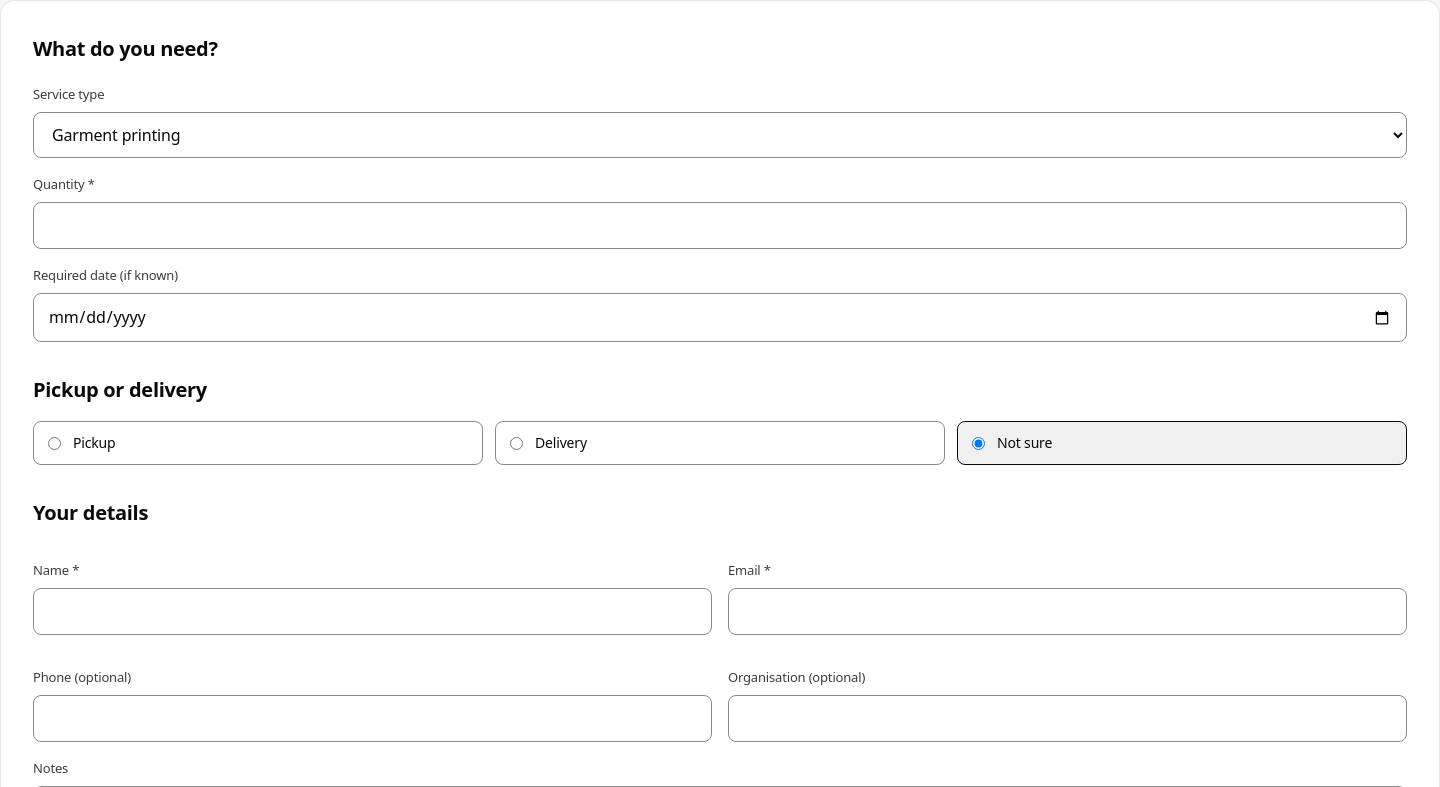
QuoteFormClient › requires delivery suburb when Delivery is selected
Click the radio button labelled "Delivery".
click(516, 443)  # box [510, 436, 523, 450]
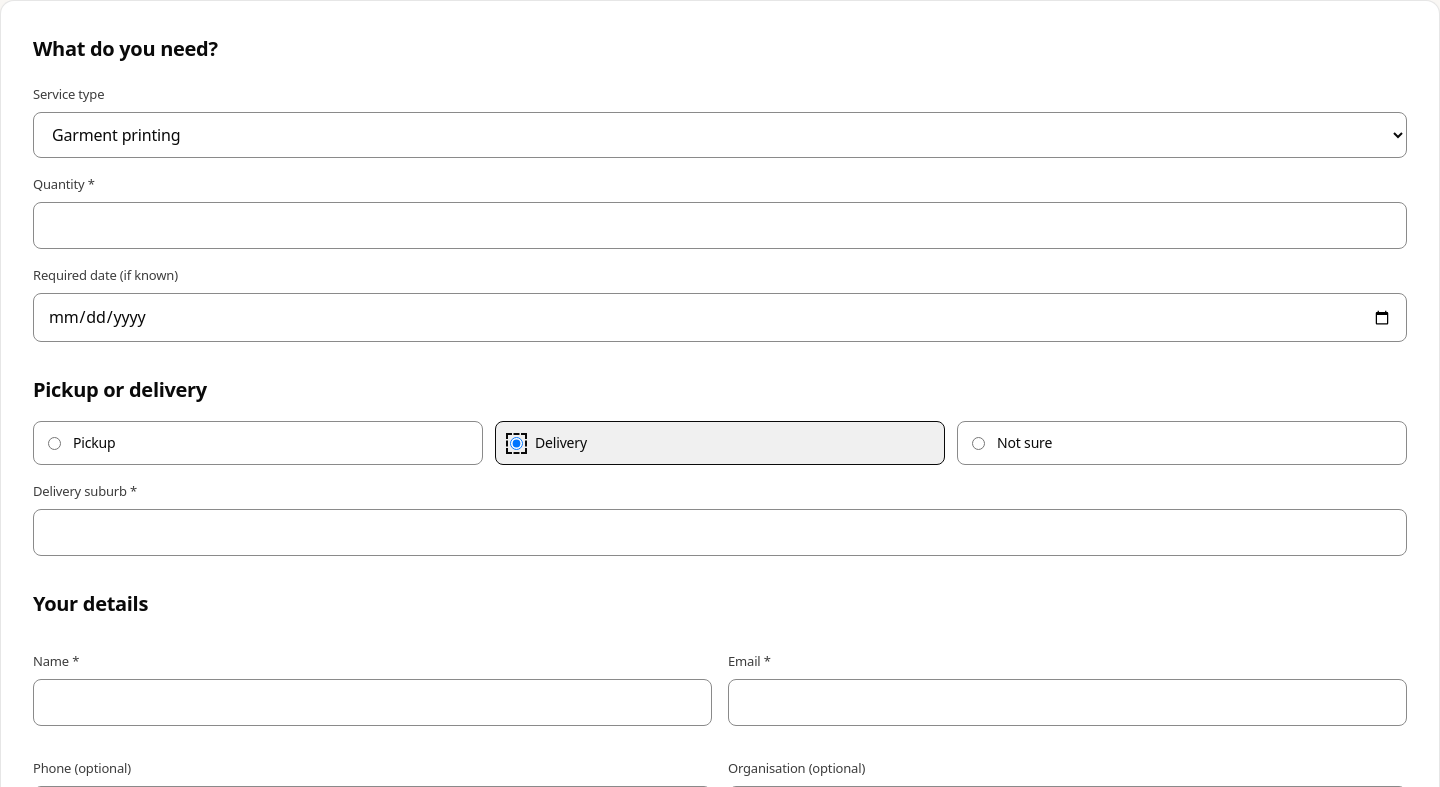
Now the field labelled "Delivery suburb *" is shown, box [33, 509, 1407, 556]
